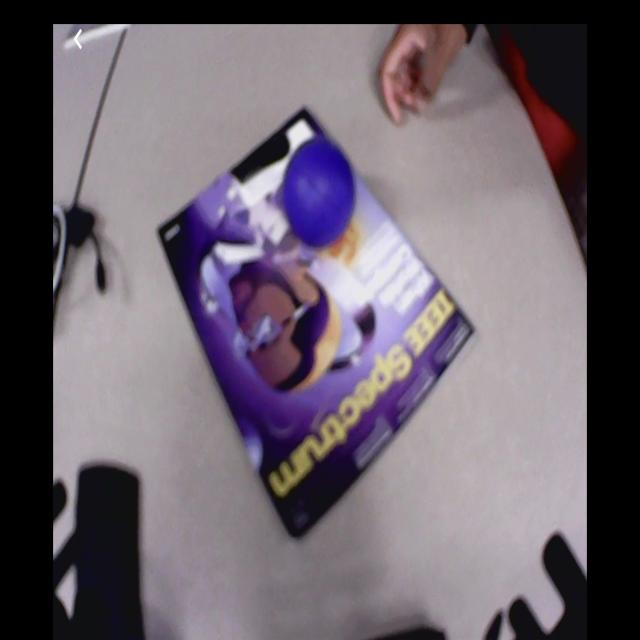ball: (287, 138, 356, 247)
